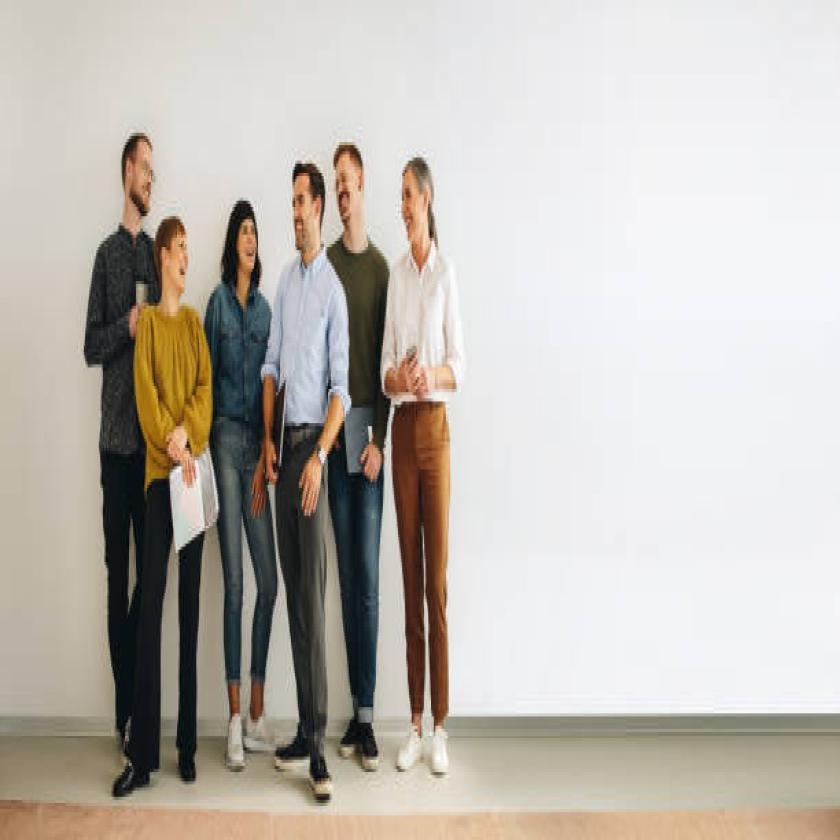Sin_casco: (388, 136, 455, 279), (330, 118, 372, 262), (145, 206, 203, 309), (114, 106, 160, 234), (219, 174, 264, 299), (286, 145, 329, 265)
